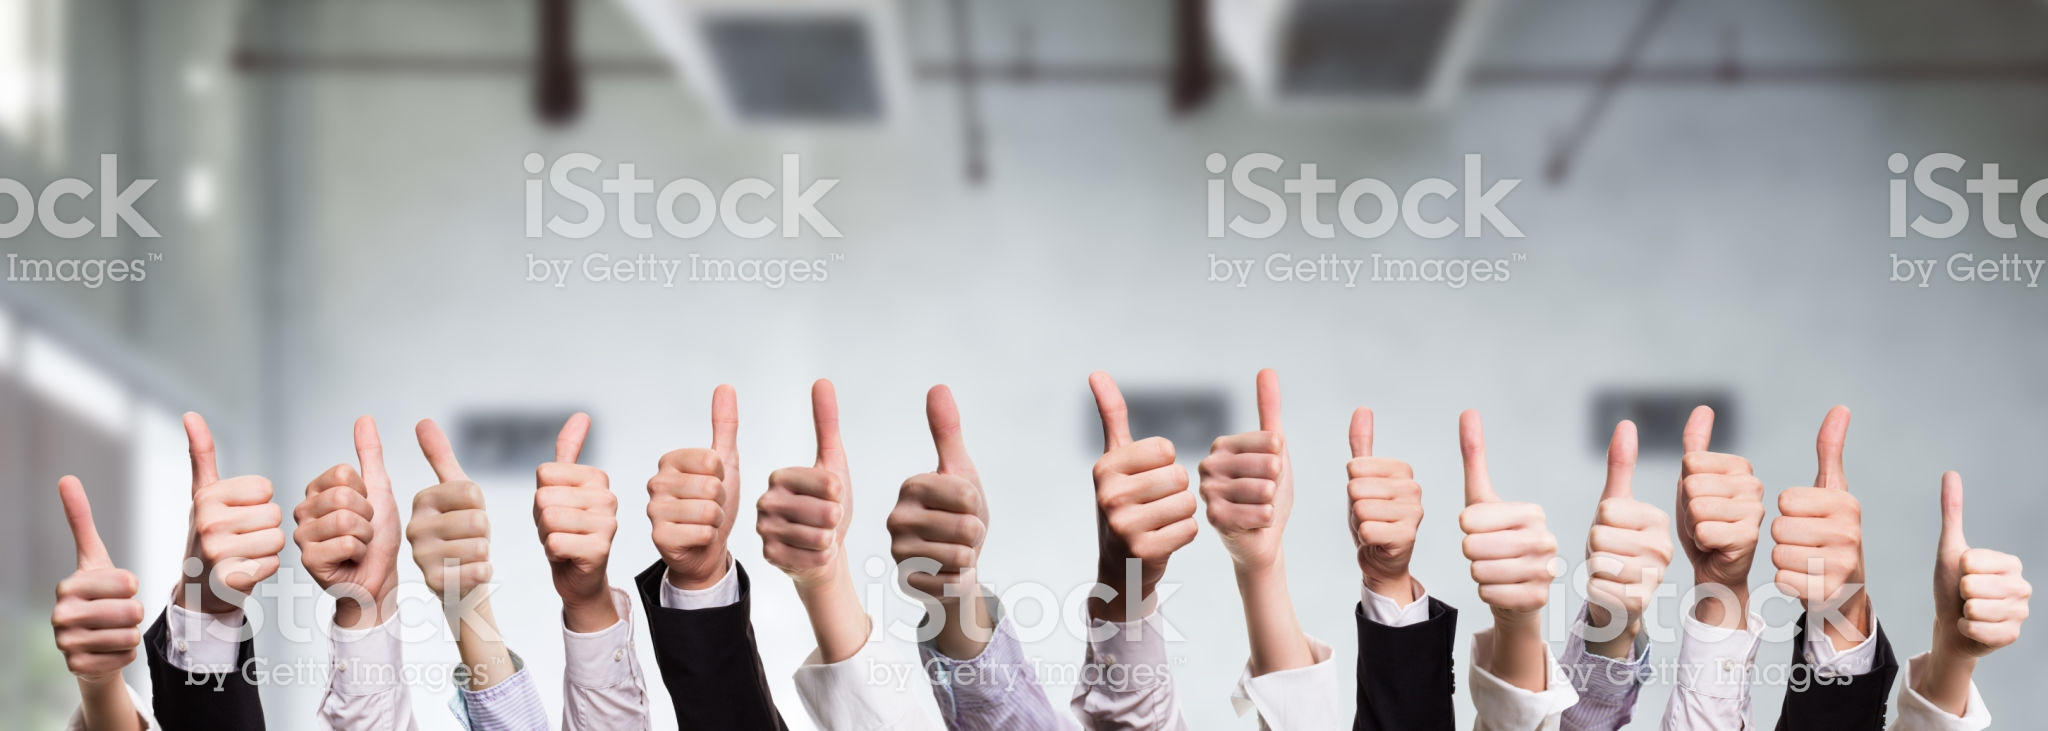thumbsup: (886, 382, 993, 603), (1085, 369, 1202, 570), (1452, 406, 1558, 614), (751, 375, 856, 580), (1192, 365, 1298, 565), (289, 412, 402, 594), (47, 474, 146, 679), (1929, 469, 2035, 657), (1768, 402, 1865, 606), (179, 409, 287, 583), (644, 382, 743, 569), (1580, 416, 1674, 612), (404, 416, 496, 595), (1672, 403, 1766, 580), (532, 411, 620, 595), (1343, 403, 1426, 563)
